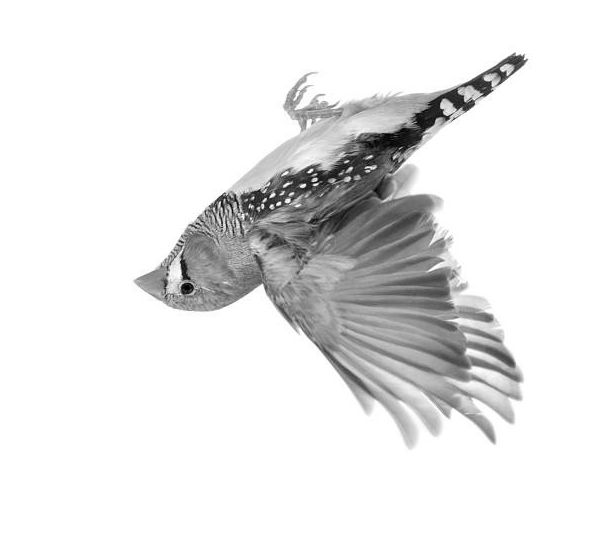Bird: (131, 46, 539, 455)
